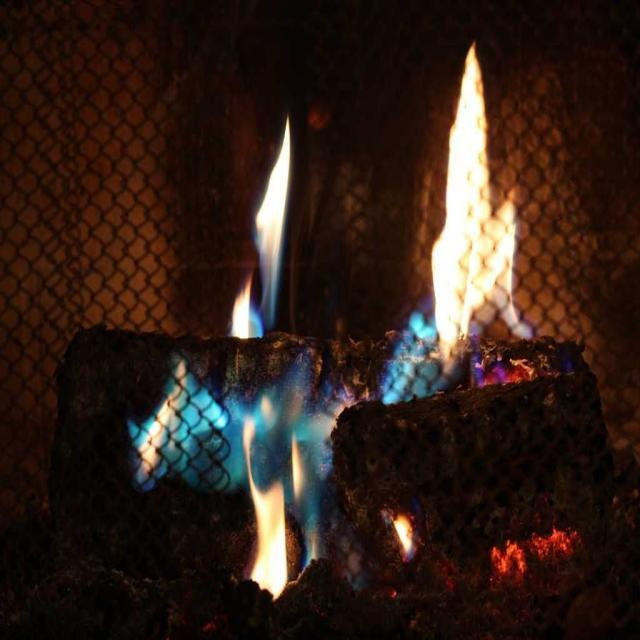Fire: (179, 394, 329, 479), (444, 130, 509, 326), (262, 170, 290, 312), (256, 487, 290, 581)
